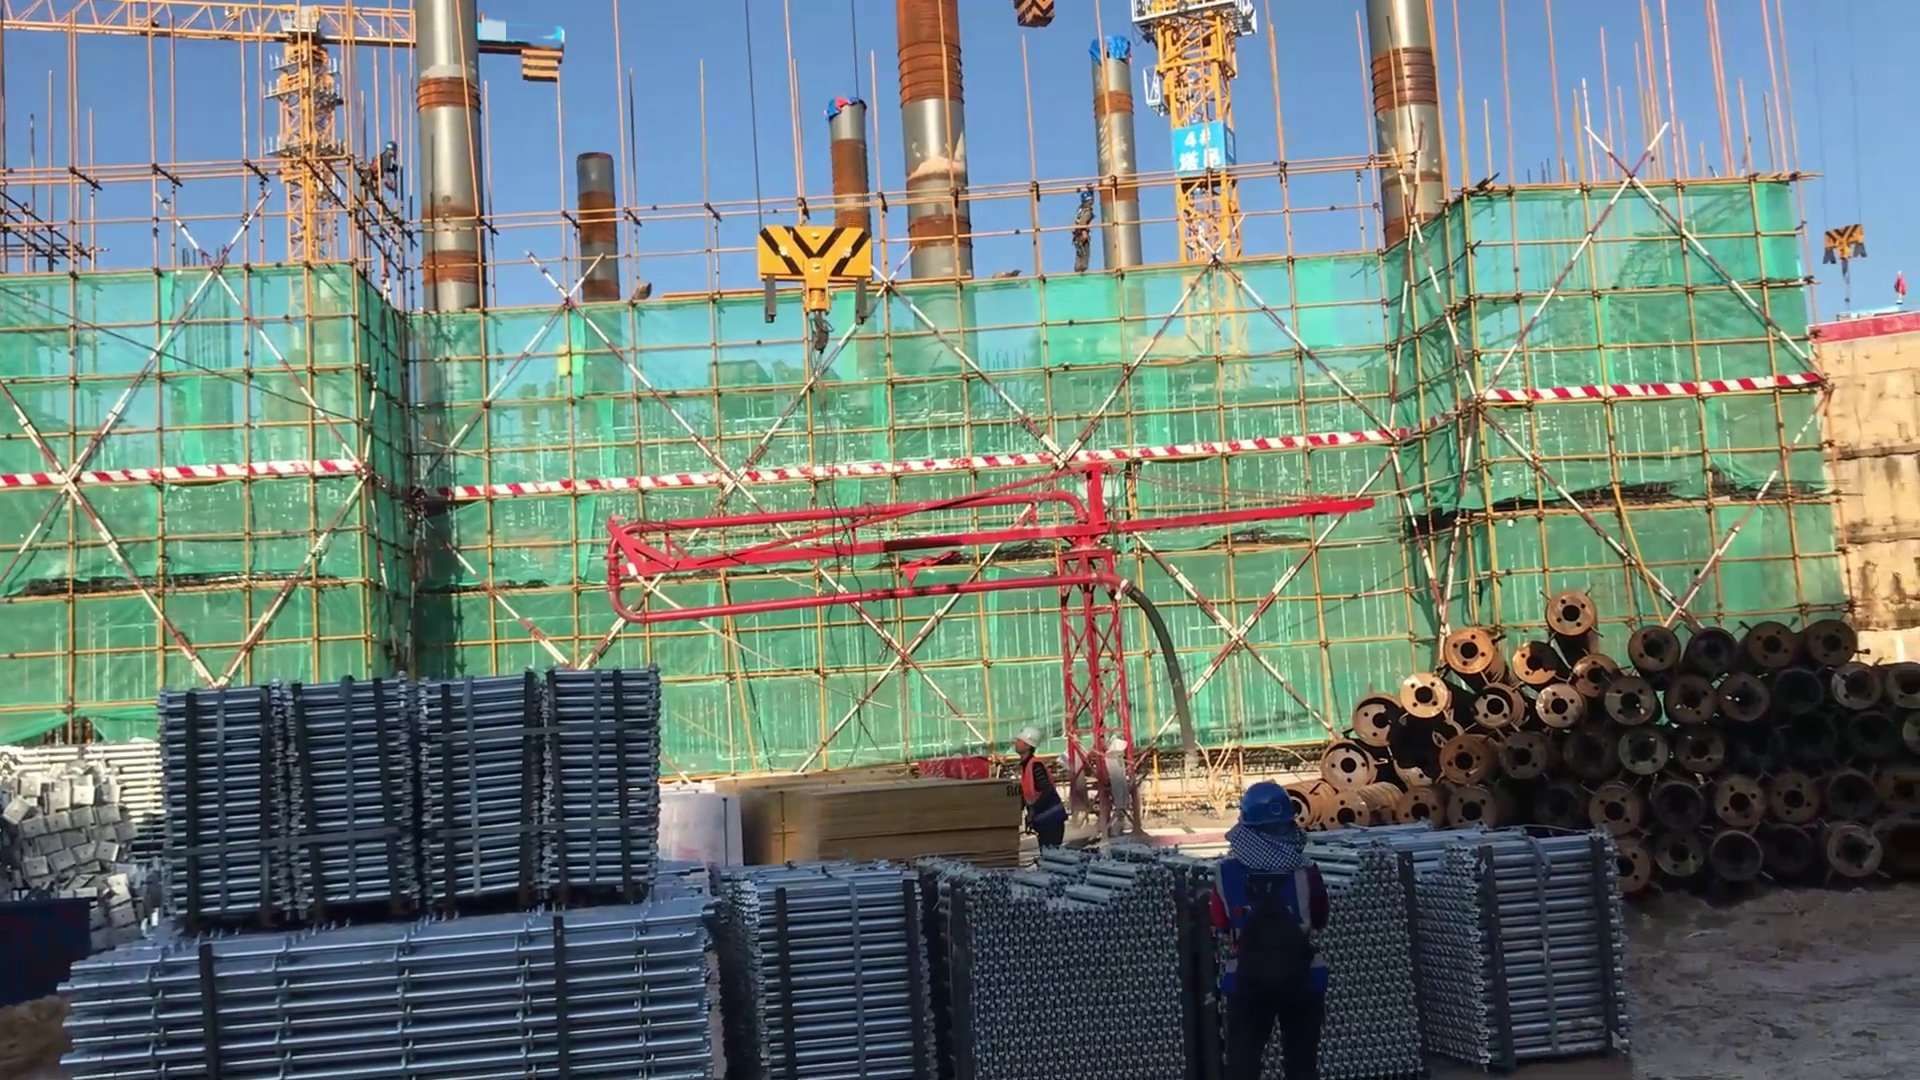board: (727, 784, 1023, 884)
helmet: (1230, 777, 1308, 833), (1009, 726, 1045, 749), (1080, 185, 1097, 202)
hook: (759, 196, 886, 406), (1802, 205, 1887, 334)
person: (1203, 779, 1328, 1078), (1004, 726, 1066, 857), (1070, 182, 1101, 275)
scaffold: (144, 663, 647, 905), (48, 910, 722, 1080), (1297, 801, 1627, 1080), (923, 845, 1197, 1080), (722, 848, 946, 1080)
slogan: (1175, 124, 1237, 185)
vest: (1217, 862, 1322, 988), (1018, 755, 1065, 812)
